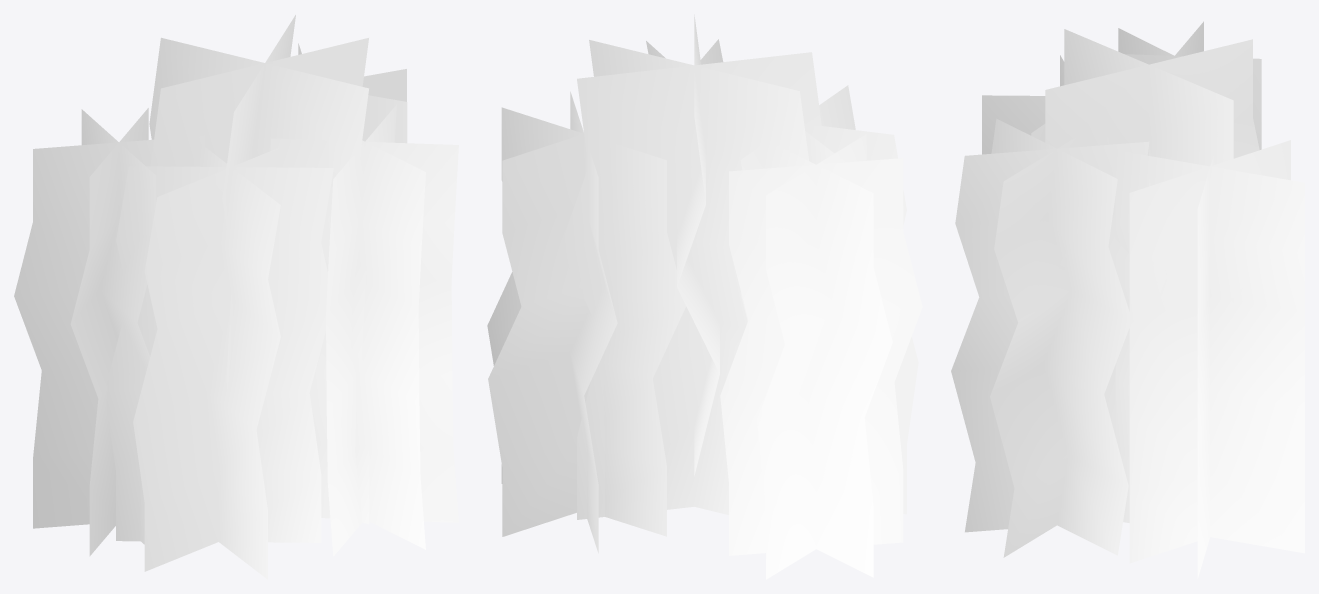
Rendered from SM_Env_Seaweed_02.glb.
The picture shows the model from 3 angles, left to right: view 1: azimuth 30°, elevation 25°; view 2: azimuth 150°, elevation 25°; view 3: azimuth 270°, elevation 25°; orthographic projection.
Parts seen in each view (by area): view 1: SM_Env_Seaweed_02_LOD0; view 2: SM_Env_Seaweed_02_LOD0; view 3: SM_Env_Seaweed_02_LOD0.
Part boxes in pixels (x1=…): SM_Env_Seaweed_02_LOD0: x1=14, y1=15, x2=458, y2=579; SM_Env_Seaweed_02_LOD0: x1=487, y1=14, x2=922, y2=579; SM_Env_Seaweed_02_LOD0: x1=951, y1=21, x2=1304, y2=578.
Size of what is drawn, in the model's own units: 2.14 by 2.2 by 1.63.
1 material, 1 textured.
